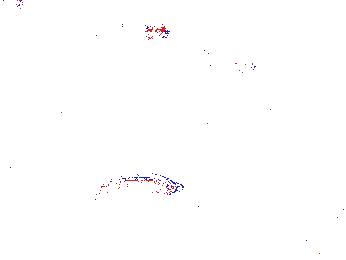glassfish: (229, 119, 308, 161), (91, 170, 186, 202)
red belly glassfish: (208, 54, 260, 75), (128, 21, 170, 39), (188, 61, 229, 77)
